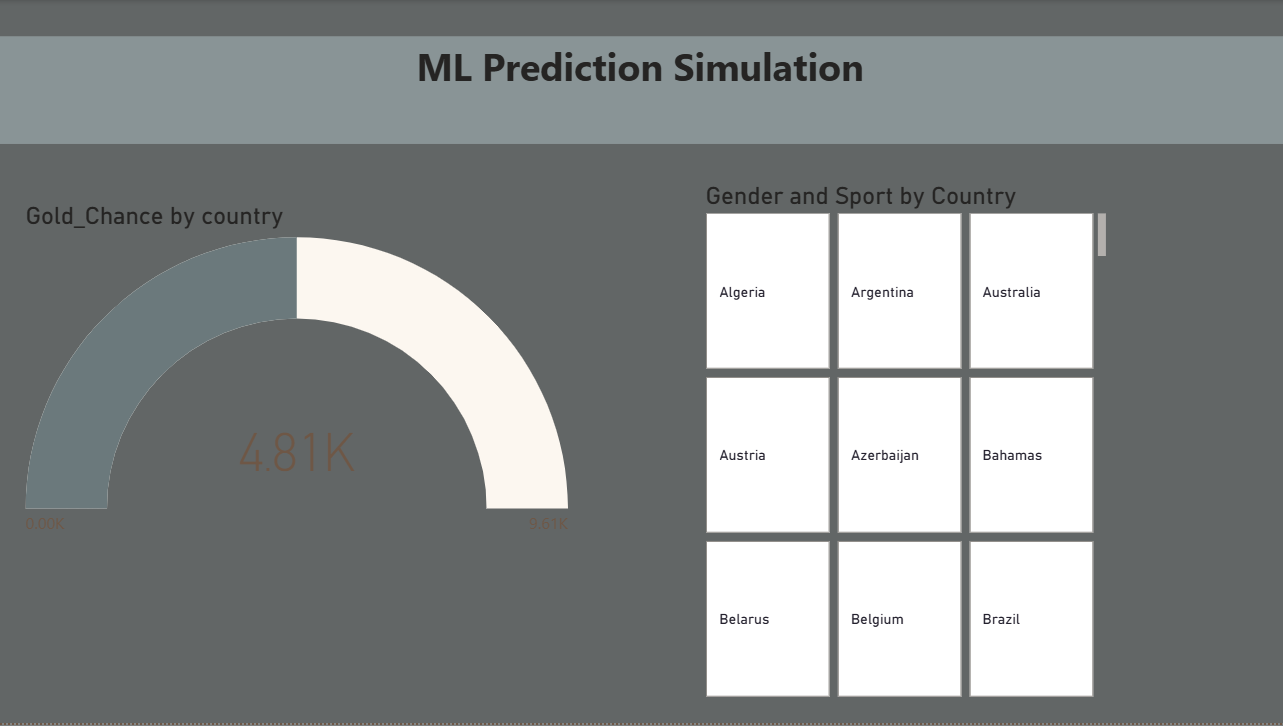

The dashboard page shown, as its layout file describes it:
{"tool":"powerbi","page":{"name":"Page 6","canvas":[1280,720],"ordinal":5},"visuals":[{"type":"gauge","title":" Gold_Chance by country","fields":{"Y":["Sum(summer_olympic.Gold_Chance)"]},"box":[23.1,200.5,549.7,346.3],"z":0},{"type":"textbox","box":[0,36.1,1280,107],"z":1000},{"type":"advancedSlicerVisual","title":" Gender and  Sport by Country","fields":{"Values":["summer_olympic.Country"]},"box":[699.7,180.3,408.3,519.4],"z":2000}]}

Visuals, with their boxes in screenshot pixels (x1, y1, x2, y2), scaled from the page's 1280x720 canvas onto the 1283x726 screenshot:
" Gold_Chance by country" gauge: (x1=23, y1=202, x2=574, y2=551)
textbox: (x1=0, y1=36, x2=1282, y2=144)
" Gender and  Sport by Country" advancedSlicerVisual: (x1=701, y1=182, x2=1111, y2=706)
